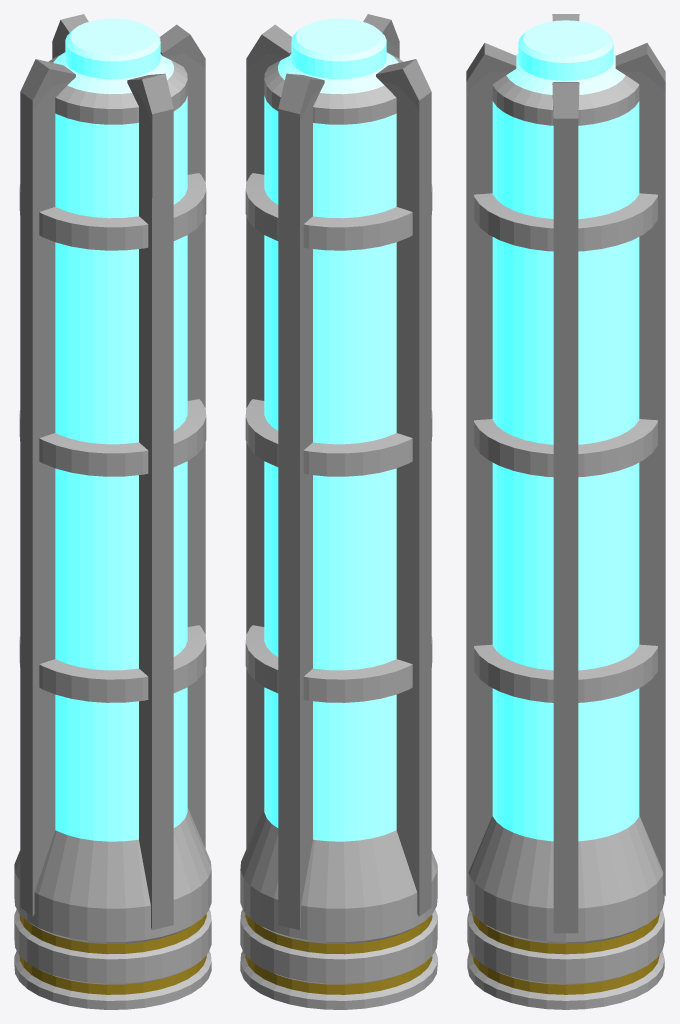
File: electronic device.fbx
3 views of the same model, side by side, from view 1: azimuth 30°, elevation 25°; view 2: azimuth 150°, elevation 25°; view 3: azimuth 270°, elevation 25° (orthographic).
Visible parts, largest first — view 1: Cylinder.004; view 2: Cylinder.004; view 3: Cylinder.004.
Boxes of the visible parts, x1,y1,x2,y2 form: Cylinder.004: [14, 14, 211, 1009]; Cylinder.004: [240, 14, 437, 1009]; Cylinder.004: [466, 14, 665, 1009].
Bounding box in the file's own units: 40 × 206 × 40.
